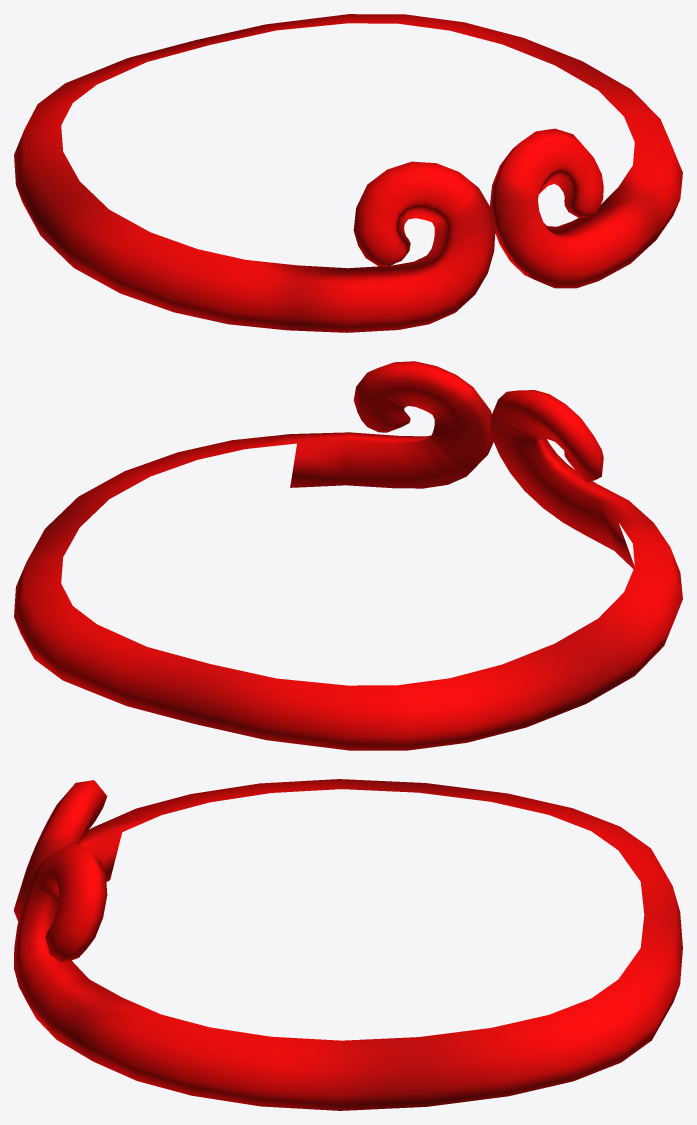
The model's file is M_HeadringA.glb.
The picture shows the model from 3 angles, top to bottom: view 1: azimuth 30°, elevation 25°; view 2: azimuth 150°, elevation 25°; view 3: azimuth 270°, elevation 25°; orthographic projection. The views are drawn at different scales.
Parts seen in each view (by area): view 1: SM_Headring; view 2: SM_Headring; view 3: SM_Headring.
Boxes of the visible parts, <box> form: SM_Headring: <box>14,14,682,332</box>; SM_Headring: <box>14,361,682,750</box>; SM_Headring: <box>14,779,682,1110</box>.
Bounding box in the file's own units: 1.2 × 0.2865 × 1.15.
1 material, 1 textured.
